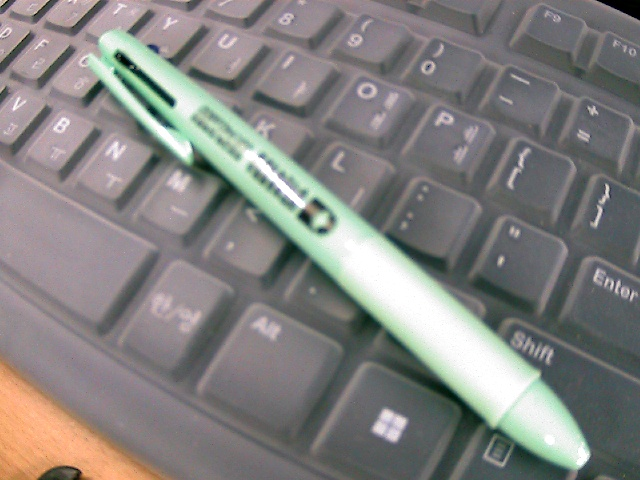pen: (73, 26, 594, 473)
